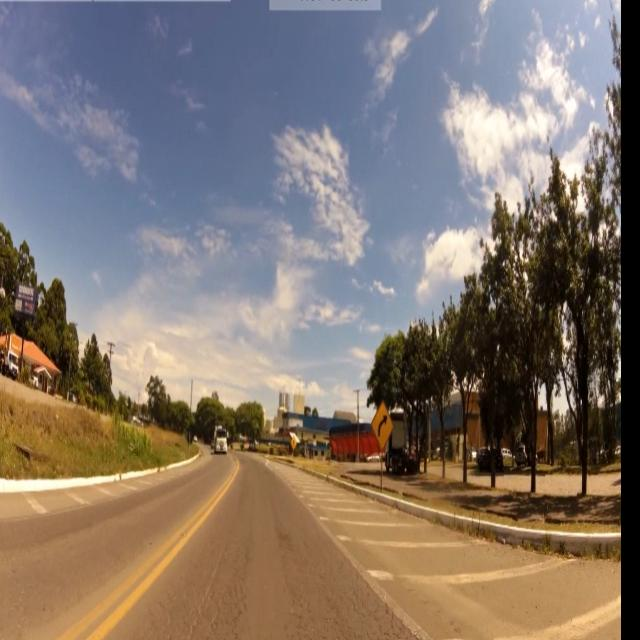A-2b: (372, 398, 394, 456)
